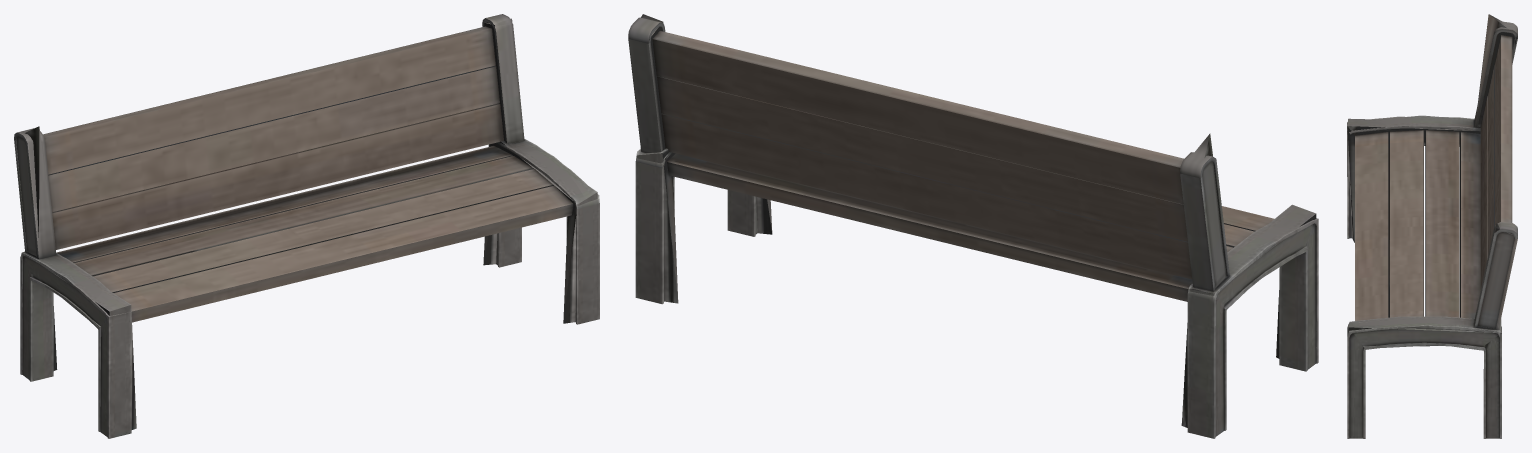
The model's file is street-bench.glb.
3 renders of one model, left to right at view 1: azimuth 30°, elevation 25°; view 2: azimuth 150°, elevation 25°; view 3: azimuth 270°, elevation 25°, orthographic. The views are drawn at different scales.
Visible parts, largest first — view 1: SM_CityProps_BenchesA_A_LOD0; view 2: SM_CityProps_BenchesA_A_LOD0; view 3: SM_CityProps_BenchesA_A_LOD0.
Boxes of the visible parts, x1,y1,x2,y2 form: SM_CityProps_BenchesA_A_LOD0: (14, 14, 599, 438); SM_CityProps_BenchesA_A_LOD0: (628, 14, 1318, 438); SM_CityProps_BenchesA_A_LOD0: (1347, 14, 1517, 438).
Size of the model in its own units: 1.84 by 0.9 by 0.6329.
1 material, 1 textured.
